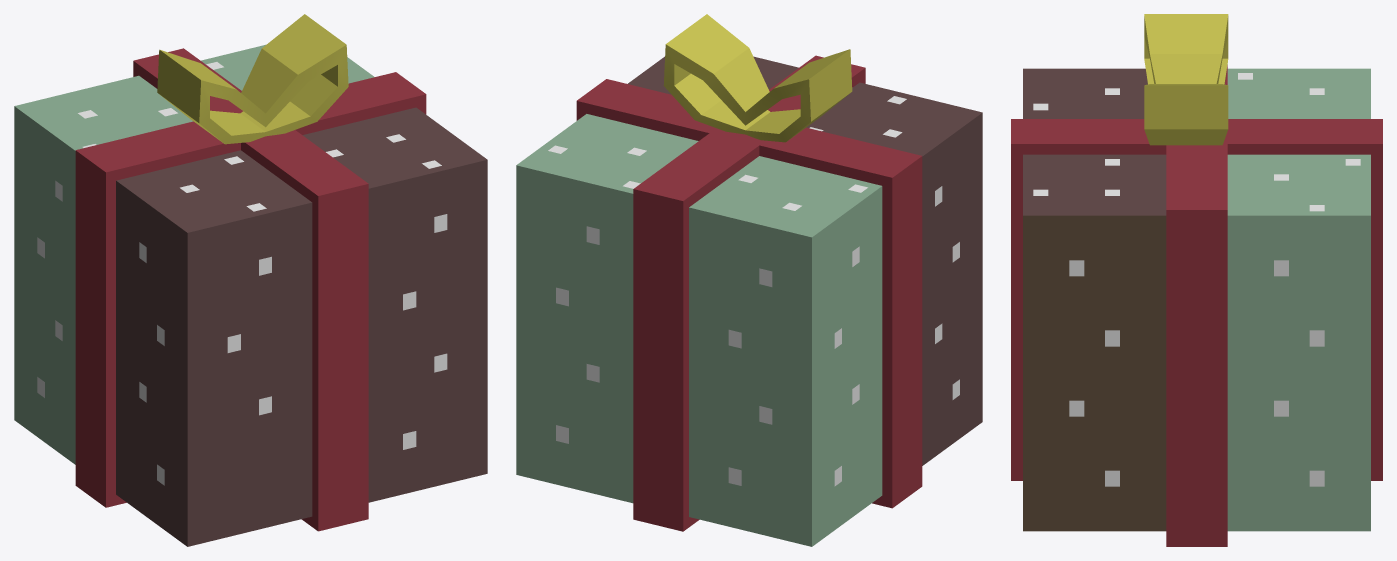
The model's file is Caja_Navidena_4.fbx.
The picture shows the model from 3 angles, left to right: view 1: azimuth 30°, elevation 25°; view 2: azimuth 150°, elevation 25°; view 3: azimuth 270°, elevation 25°; orthographic projection.
Parts seen in each view (by area): view 1: fes_Caja_tipo_1, Moñito_1; view 2: fes_Caja_tipo_1, Moñito_1; view 3: fes_Caja_tipo_1, Moñito_1.
Boxes of the visible parts, x1,y1,x2,y2 form: fes_Caja_tipo_1: [14, 44, 487, 546]; Moñito_1: [157, 14, 348, 144]; fes_Caja_tipo_1: [516, 55, 982, 546]; Moñito_1: [663, 14, 852, 142]; fes_Caja_tipo_1: [1011, 65, 1382, 546]; Moñito_1: [1144, 14, 1228, 145].
Size of the model in its own units: 1.07 by 1.32 by 1.07.
